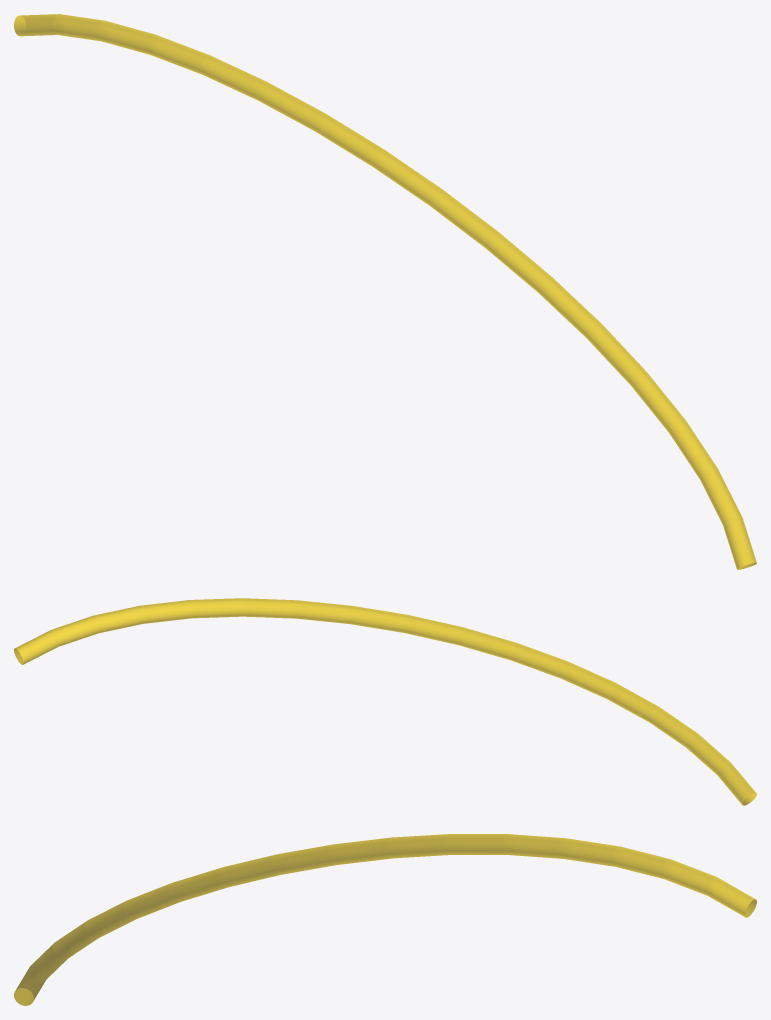
The model's file is Event_17758602_track_146.fbx.
3 renders of one model, top to bottom at view 1: azimuth 90°, elevation 25°; view 2: azimuth 150°, elevation 25°; view 3: azimuth 270°, elevation 25°, orthographic. The views are drawn at different scales.
Parts seen in each view (by area): view 1: Model; view 2: Model; view 3: Model.
Part boxes in pixels (x1,y1,x2,y2): Model: (14,14,756,569); Model: (14,598,756,805); Model: (14,834,756,1005).
Size of the model in its own units: 1.05 by 0.7296 by 1.42.
